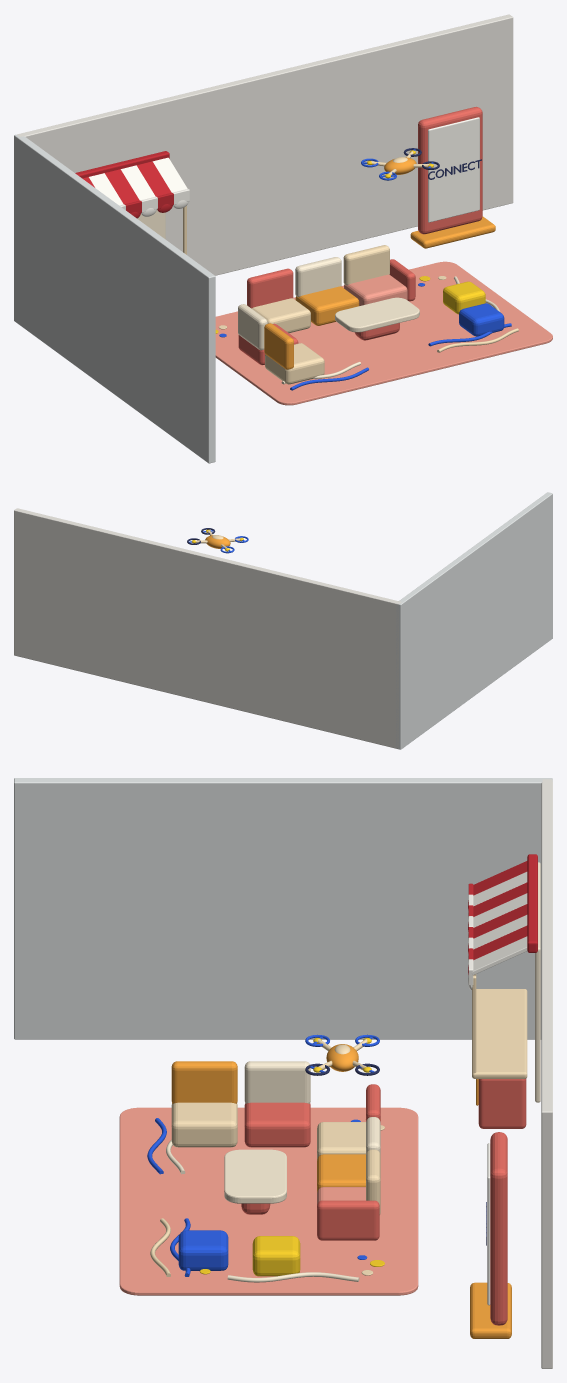
The picture shows the model from 3 angles, top to bottom: view 1: azimuth 30°, elevation 25°; view 2: azimuth 150°, elevation 25°; view 3: azimuth 270°, elevation 25°; orthographic projection. The views are drawn at different scales.
Parts seen in each view (by area): view 1: Back_Wall.001, Left_Wall.001, Patterned_Rug.001, Floor_Screen_Display.001, Floor_Screen_Casing.001, Central_Coffee_Table_Top.001, Modular_Seat_B.001, Modular_Back_B.001, Modular_Back_C.001, Modular_Back_A.001, Modular_Seat_E.001, Modular_Seat_A.001 (+12 smaller); view 2: Back_Wall.001, Left_Wall.001; view 3: Left_Wall.001, Patterned_Rug.001, Back_Wall.001, Cafe_Counter_Top.001, Floor_Screen_Casing.001, Central_Coffee_Table_Top.001, Modular_Seat_D.001, Modular_Seat_E.001, Modular_Back_E.001, Modular_Back_D.001, Modular_Arm_Right.001, Cafe_Counter_Body.001 (+9 smaller).
Part boxes in pixels (box(x1,y1,x2,y2)): Back_Wall.001: box(17, 14, 513, 275); Left_Wall.001: box(14, 134, 215, 463); Patterned_Rug.001: box(215, 261, 552, 405); Floor_Screen_Display.001: box(428, 117, 479, 222); Floor_Screen_Casing.001: box(418, 106, 482, 234); Central_Coffee_Table_Top.001: box(335, 297, 419, 332); Modular_Seat_B.001: box(295, 286, 359, 325); Modular_Back_B.001: box(295, 257, 341, 297); Modular_Back_C.001: box(343, 245, 389, 285); Modular_Back_A.001: box(247, 268, 293, 308); Modular_Seat_E.001: box(265, 343, 324, 384); Modular_Seat_A.001: box(251, 298, 310, 333); Back_Wall.001: box(14, 508, 401, 749); Left_Wall.001: box(396, 492, 552, 749); Left_Wall.001: box(14, 778, 552, 1039); Patterned_Rug.001: box(119, 1107, 418, 1295); Back_Wall.001: box(541, 779, 552, 1368); Cafe_Counter_Top.001: box(472, 989, 527, 1078); Floor_Screen_Casing.001: box(490, 1132, 507, 1325); Central_Coffee_Table_Top.001: box(224, 1149, 286, 1203); Modular_Seat_D.001: box(244, 1102, 310, 1147); Modular_Seat_E.001: box(171, 1102, 237, 1147); Modular_Back_E.001: box(171, 1061, 237, 1103); Modular_Back_D.001: box(244, 1061, 310, 1103); Modular_Arm_Right.001: box(317, 1200, 379, 1240); Cafe_Counter_Body.001: box(478, 1078, 526, 1128).
Size of the model in its own units: 13.65 by 4.9 by 9.3.
